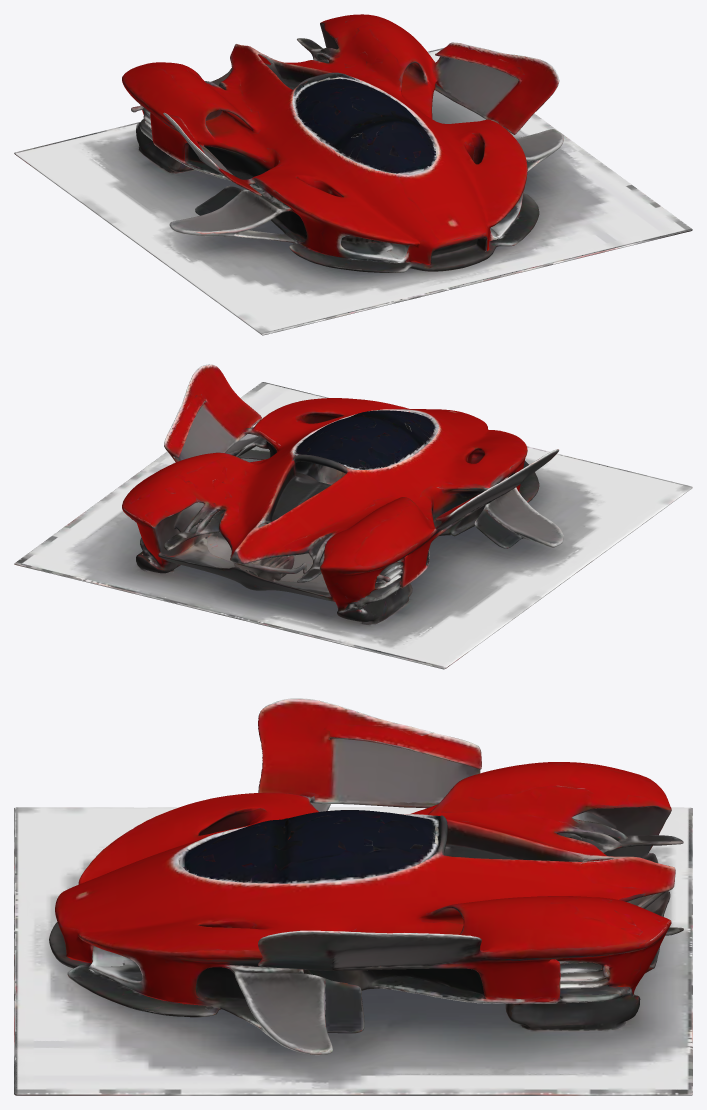
The model's file is car.glb.
3 renders of one model, top to bottom at view 1: azimuth 30°, elevation 25°; view 2: azimuth 150°, elevation 25°; view 3: azimuth 270°, elevation 25°, orthographic. The views are drawn at different scales.
Bounding box in the file's own units: 1 × 0.2253 × 1.
1 material, 1 textured.
